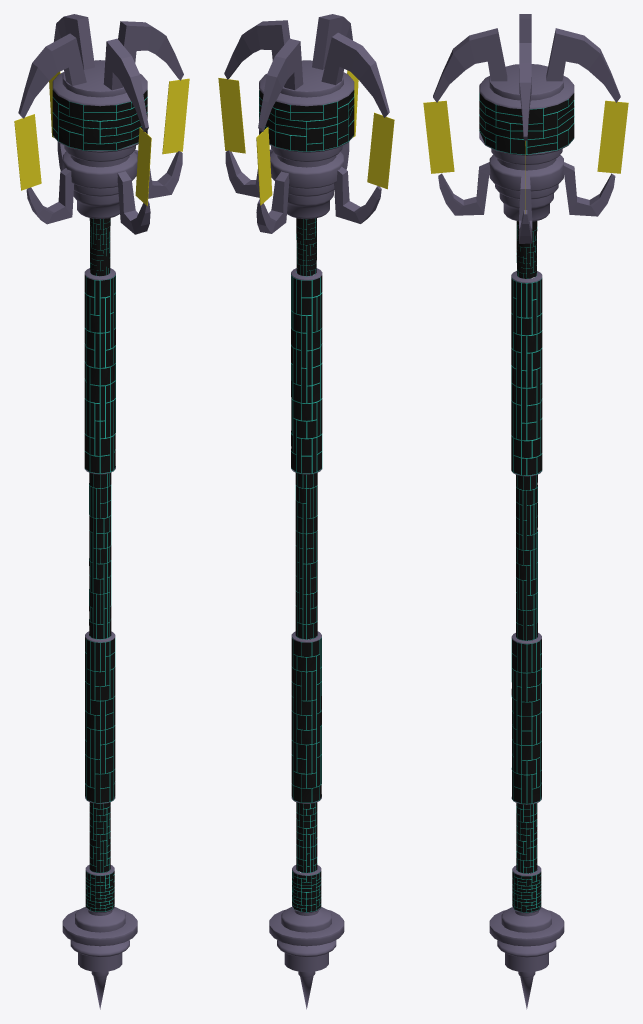
The model's file is ZappyStickV3.FBX.
The picture shows the model from 3 angles, left to right: view 1: azimuth 30°, elevation 25°; view 2: azimuth 150°, elevation 25°; view 3: azimuth 270°, elevation 25°; orthographic projection.
Visible parts, largest first — view 1: Box013, Main Handle, TopHandHolder, BottomHandHolder, Object003, MidMidSection, Plane003, Plane001, BottomMidSection, TopMidSection, VeryBottomGrip, Plane002; view 2: Box013, Main Handle, TopHandHolder, BottomHandHolder, Object003, MidMidSection, Plane003, Plane001, BottomMidSection, TopMidSection, VeryBottomGrip, Plane004; view 3: Main Handle, Box013, TopHandHolder, BottomHandHolder, Object003, MidMidSection, Plane004, Plane002, BottomMidSection, VeryBottomGrip, TopMidSection.
Part boxes in pixels (box(x1,y1,x2,y2)): Box013: box(18, 14, 183, 234); Main Handle: box(52, 60, 147, 1009); TopHandHolder: box(84, 271, 115, 473); BottomHandHolder: box(85, 634, 115, 803); Object003: box(52, 90, 147, 150); MidMidSection: box(89, 473, 111, 639); Plane003: box(162, 78, 189, 154); Plane001: box(14, 114, 41, 190); BottomMidSection: box(89, 802, 110, 872); TopMidSection: box(89, 218, 110, 275); VeryBottomGrip: box(85, 871, 114, 911); Plane002: box(135, 127, 151, 206); Box013: box(224, 14, 389, 233); Main Handle: box(259, 60, 354, 1009); TopHandHolder: box(291, 272, 322, 473); BottomHandHolder: box(291, 636, 321, 802); Object003: box(259, 90, 354, 151); MidMidSection: box(295, 473, 317, 639); Plane003: box(218, 78, 245, 153); Plane001: box(367, 112, 394, 189); BottomMidSection: box(296, 802, 317, 872); TopMidSection: box(296, 218, 316, 639); VeryBottomGrip: box(292, 868, 321, 912); Plane004: box(256, 127, 272, 205); Main Handle: box(479, 64, 574, 1009); Box013: box(433, 14, 620, 243); TopHandHolder: box(511, 278, 542, 475); BottomHandHolder: box(511, 636, 541, 804); Object003: box(479, 93, 574, 154); MidMidSection: box(516, 474, 537, 640); Plane004: box(597, 100, 628, 173); Plane002: box(423, 100, 454, 173); BottomMidSection: box(516, 803, 537, 873); VeryBottomGrip: box(512, 869, 541, 912); TopMidSection: box(516, 221, 537, 278).
Bounding box in the file's own units: 40.31 × 215 × 40.96.
